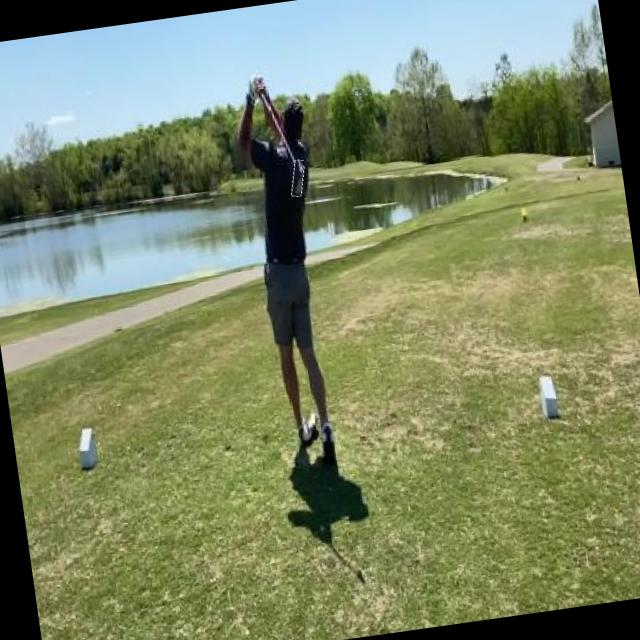club head: (288, 160, 306, 198)
